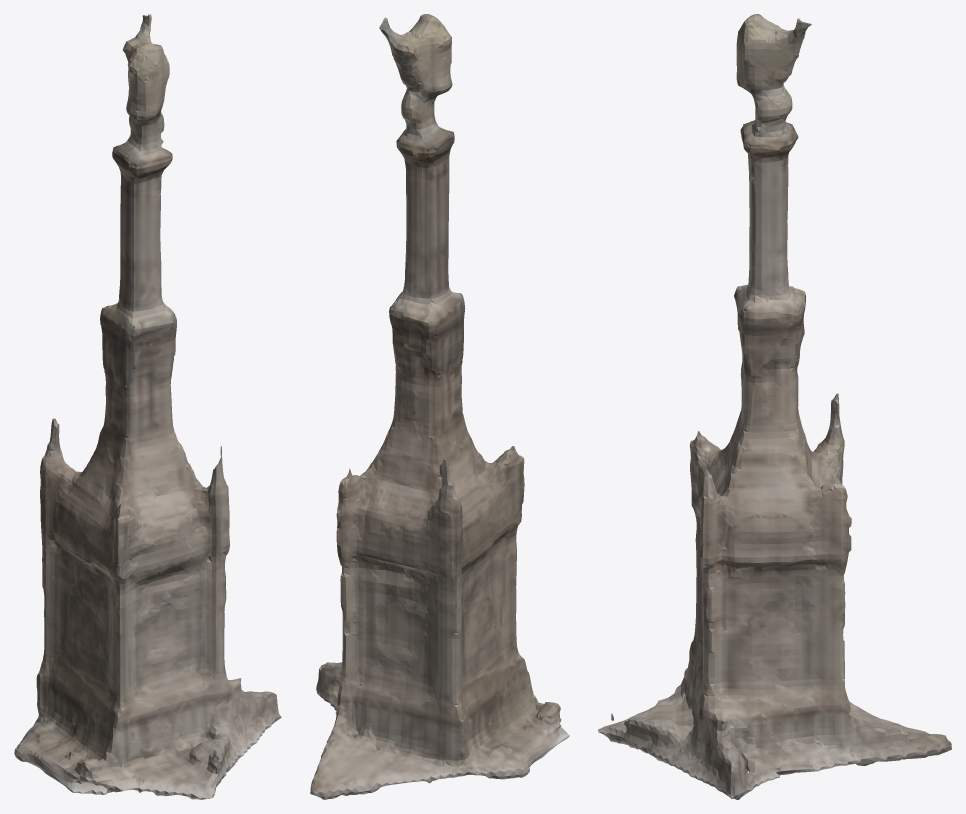
Rendered from colon.glb.
3 views of the same model, side by side, from view 1: azimuth 30°, elevation 25°; view 2: azimuth 150°, elevation 25°; view 3: azimuth 270°, elevation 25° (orthographic). The views are drawn at different scales.
Parts seen in each view (by area): view 1: world; view 2: world; view 3: world.
Boxes of the visible parts, x1,y1,x2,y2 form: world: [14, 14, 281, 799]; world: [310, 14, 569, 799]; world: [598, 14, 951, 799].
Bounding box in the file's own units: 0.6952 × 2.01 × 0.8723.
